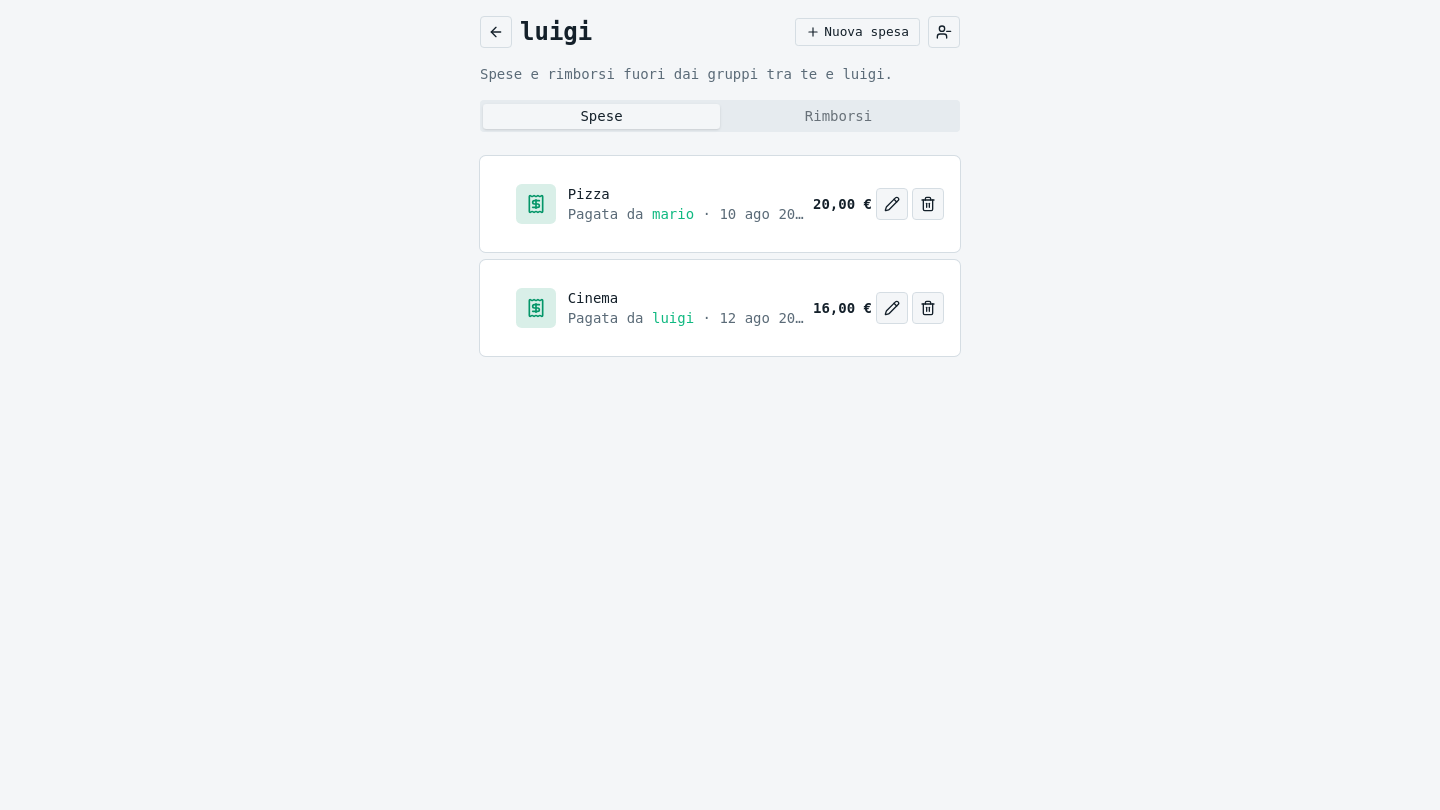
Test: FriendDetailPage › i bottoni modifica/elimina non aprono il dettaglio
The image size is (1440, 810).
Click the button named "Modifica Pizza" at (892, 204), box [876,188,908,220]
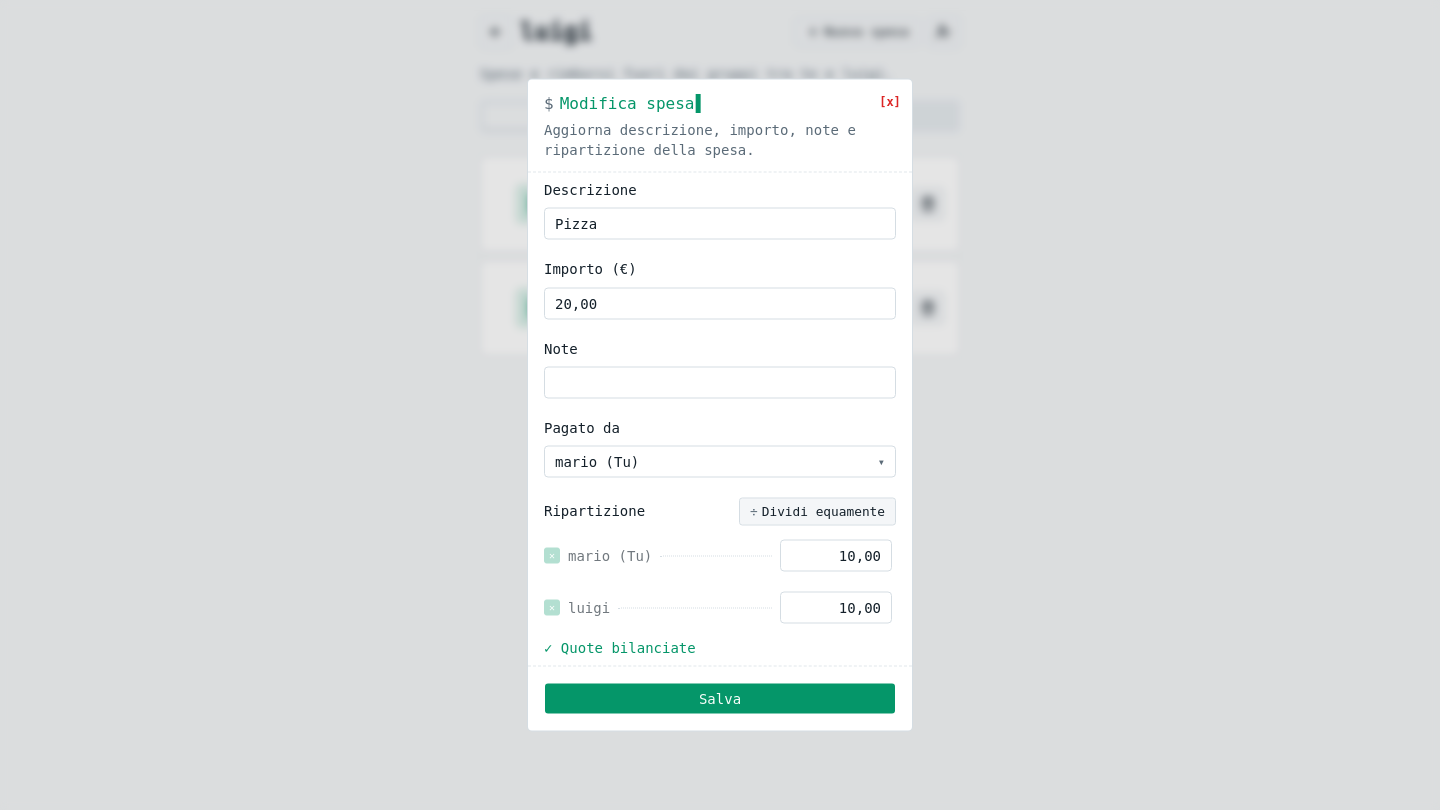
expect the field labelled "Descrizione" is shown: met, box [544,208,896,240]
